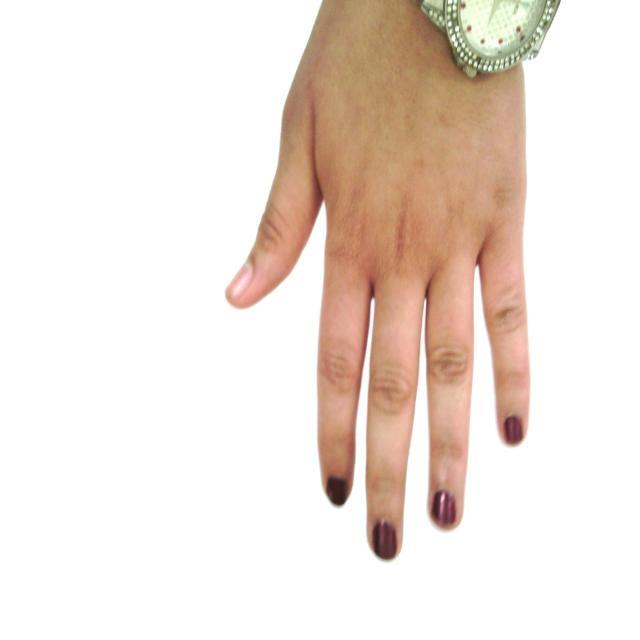Fingernail: (227, 263, 252, 298), (374, 521, 397, 559), (433, 491, 457, 526), (328, 477, 349, 506), (505, 416, 523, 445)
